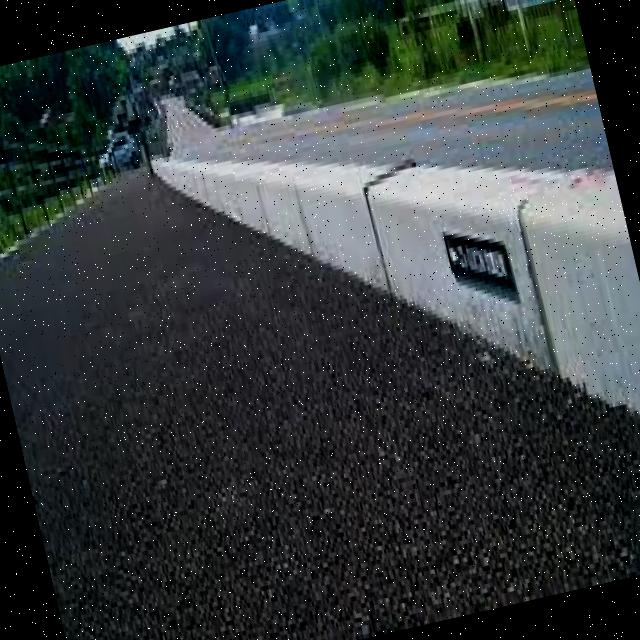curb: (341, 118, 640, 485), (238, 131, 395, 293), (161, 137, 275, 229)
